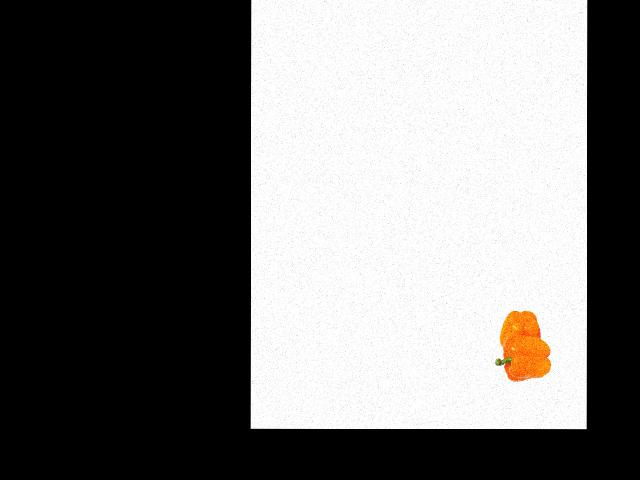bell_pepper: (498, 307, 546, 351)
